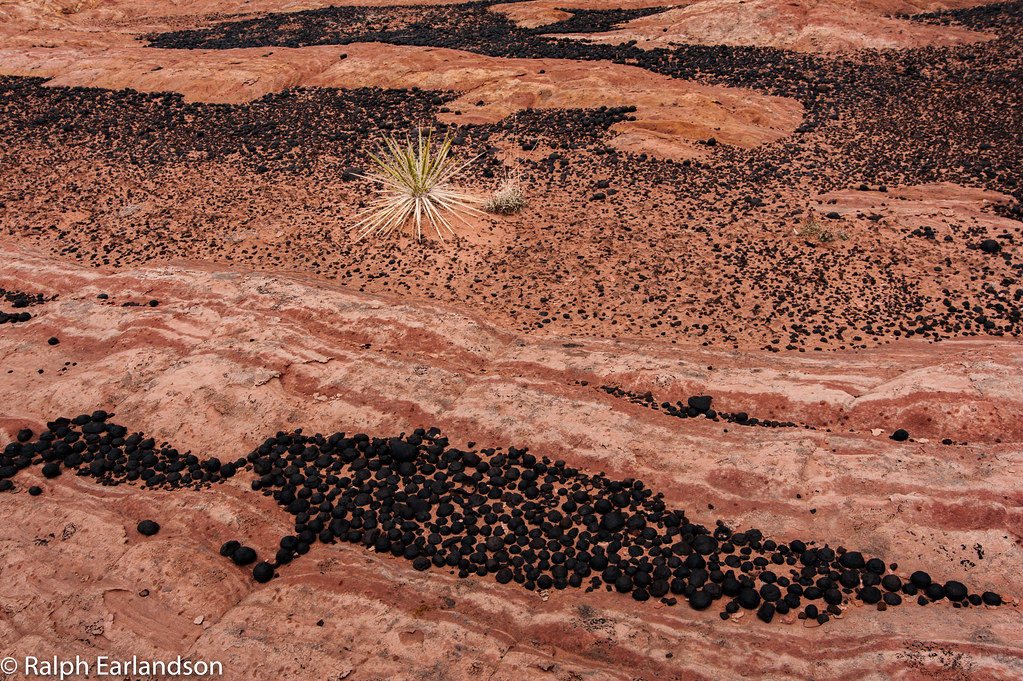volcanic_rock: (497, 347, 1015, 575), (12, 475, 292, 647), (61, 282, 387, 426)
